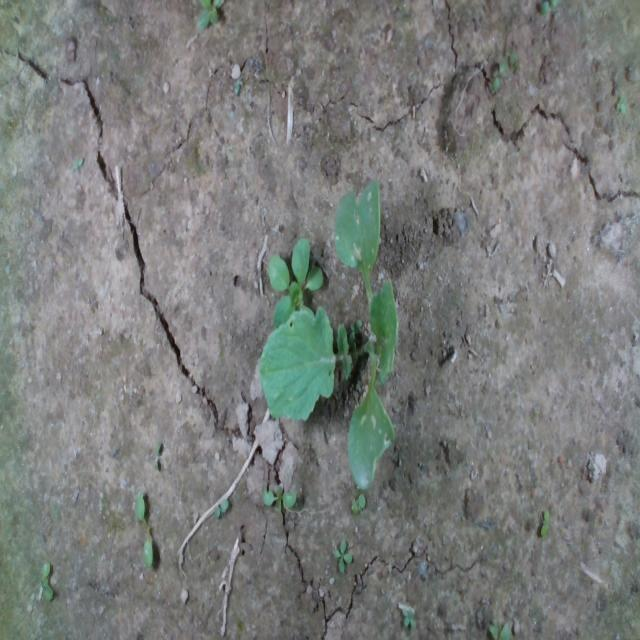weed: (134, 488, 152, 569), (262, 482, 296, 509), (332, 536, 352, 572), (38, 559, 54, 600), (491, 58, 505, 92), (213, 496, 229, 519), (350, 491, 366, 514), (348, 317, 362, 343), (540, 506, 550, 537), (402, 606, 416, 628), (615, 92, 627, 115), (154, 438, 162, 472)
